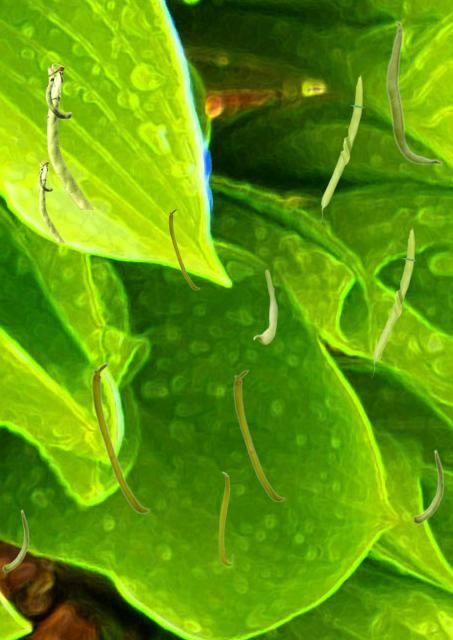french_bean: (91, 362, 149, 513), (385, 20, 442, 165), (45, 63, 92, 208), (233, 369, 284, 501), (319, 73, 363, 224), (371, 226, 415, 377), (168, 208, 199, 289), (412, 449, 443, 523), (38, 160, 63, 241), (253, 269, 276, 343), (2, 509, 28, 571), (218, 471, 232, 565)
